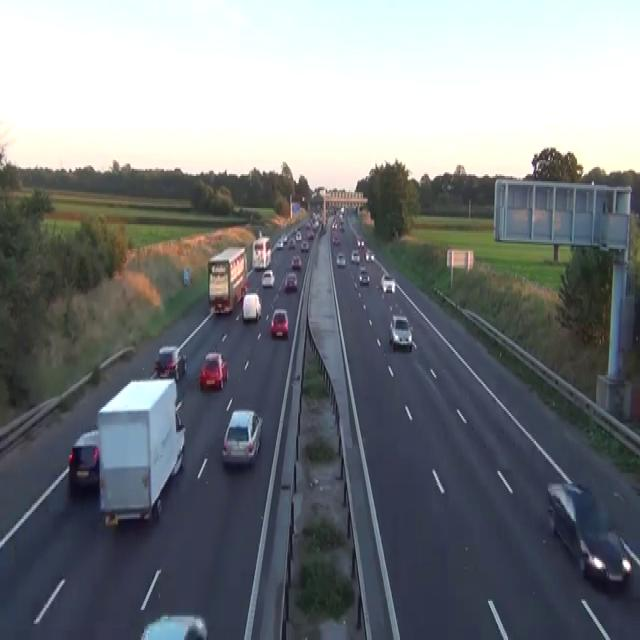Car: (546, 480, 631, 588), (579, 528, 631, 588), (221, 407, 262, 466), (68, 428, 100, 491), (139, 614, 207, 638), (151, 345, 187, 382), (198, 352, 228, 391), (389, 315, 412, 350), (242, 292, 261, 322), (270, 308, 288, 338), (380, 272, 395, 292), (283, 272, 297, 292), (261, 268, 274, 286), (358, 266, 370, 284), (336, 250, 346, 266), (290, 254, 301, 268), (350, 249, 360, 263), (365, 249, 374, 261), (287, 236, 295, 249), (242, 278, 249, 292), (300, 240, 308, 251), (332, 235, 340, 245), (356, 237, 364, 247), (276, 238, 283, 249), (233, 204, 241, 213), (307, 228, 314, 238), (446, 182, 454, 190), (331, 219, 337, 229), (321, 222, 326, 233), (295, 231, 301, 240), (338, 215, 344, 224), (282, 233, 287, 243), (257, 228, 262, 238), (305, 220, 311, 228), (339, 222, 344, 231), (354, 205, 358, 215), (340, 206, 344, 215), (356, 238, 360, 247)
Truck: (96, 377, 185, 528), (207, 245, 247, 315), (252, 233, 271, 270)
